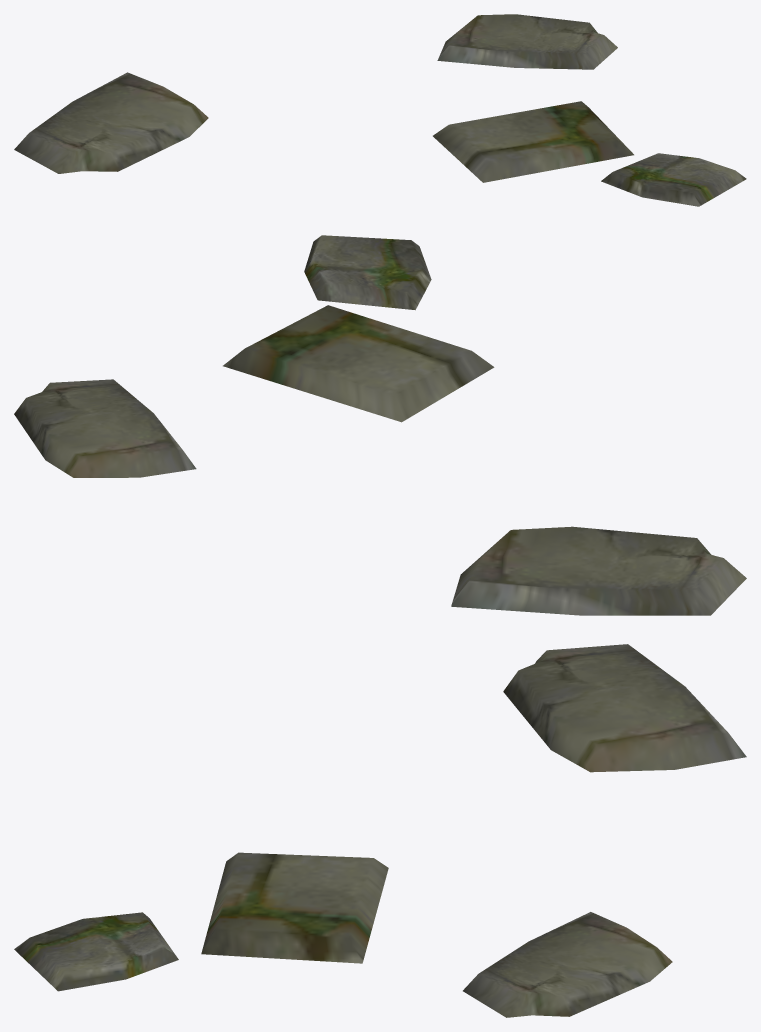
File: THL3_1.fbx
3 views of the same model, one above another, from view 1: azimuth 30°, elevation 25°; view 2: azimuth 150°, elevation 25°; view 3: azimuth 270°, elevation 25° (orthographic). The views are drawn at different scales.
Parts seen in each view (by area): view 1: _Combined_Mesh_root_scene__Mesh_polySurface3202; view 2: _Combined_Mesh_root_scene__Mesh_polySurface3202; view 3: _Combined_Mesh_root_scene__Mesh_polySurface3202.
Boxes of the visible parts, x1,y1,x2,y2 form: _Combined_Mesh_root_scene__Mesh_polySurface3202: [14, 14, 746, 206]; _Combined_Mesh_root_scene__Mesh_polySurface3202: [14, 235, 746, 615]; _Combined_Mesh_root_scene__Mesh_polySurface3202: [14, 644, 746, 1017].
Bounding box in the file's own units: 6.33 × 0.1614 × 5.4.
